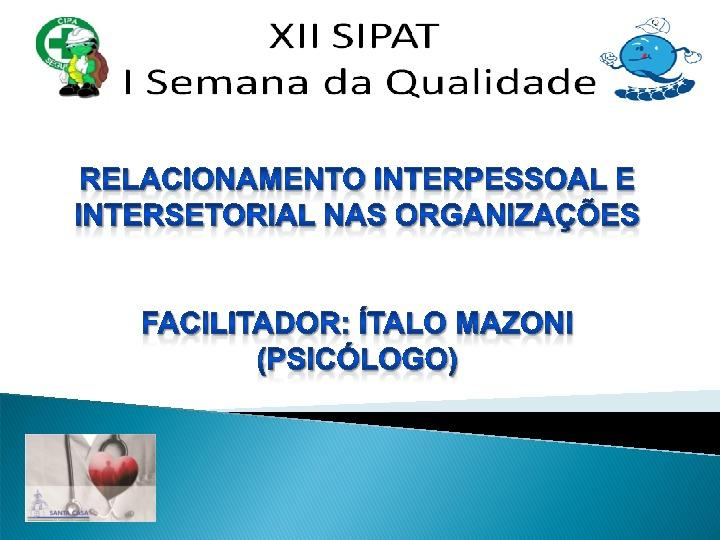subtitle: (59, 139, 690, 393)
title: (115, 5, 602, 127)
